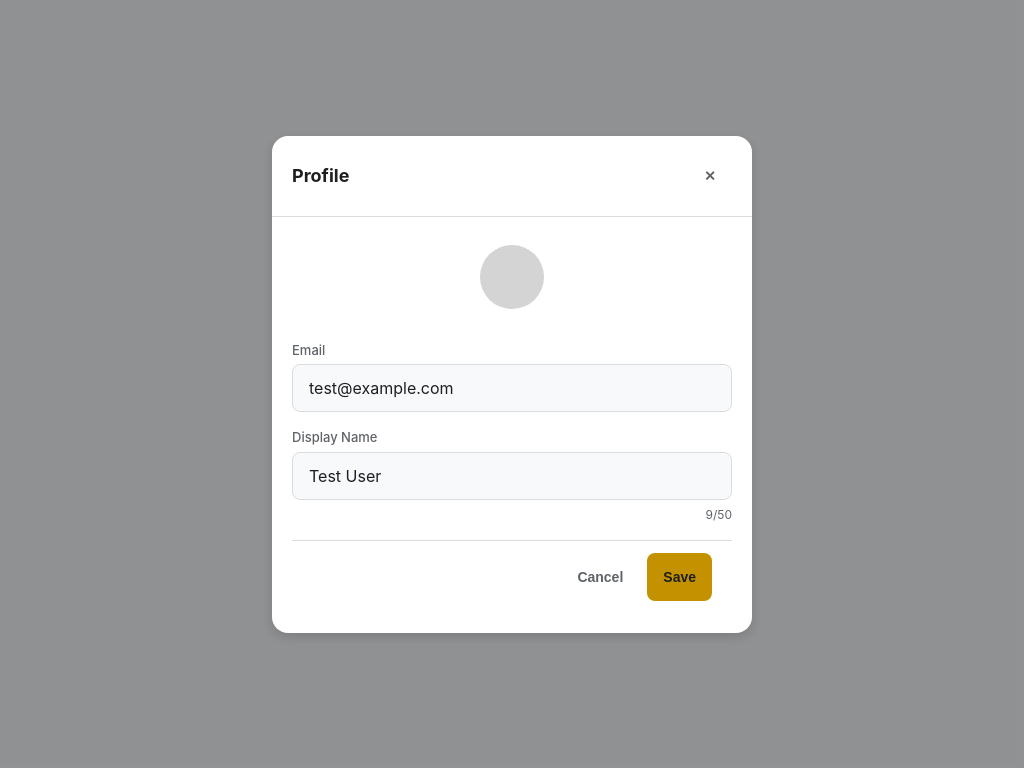
Test case: ProfileDialog — Character counter (Issue #65) › AC2: Counter updates on input (uses cleaned length) › updates count when user types
Replace the text in the field labelled "Display Name" with "Hello World" at point(512, 476), box [292, 452, 732, 500]
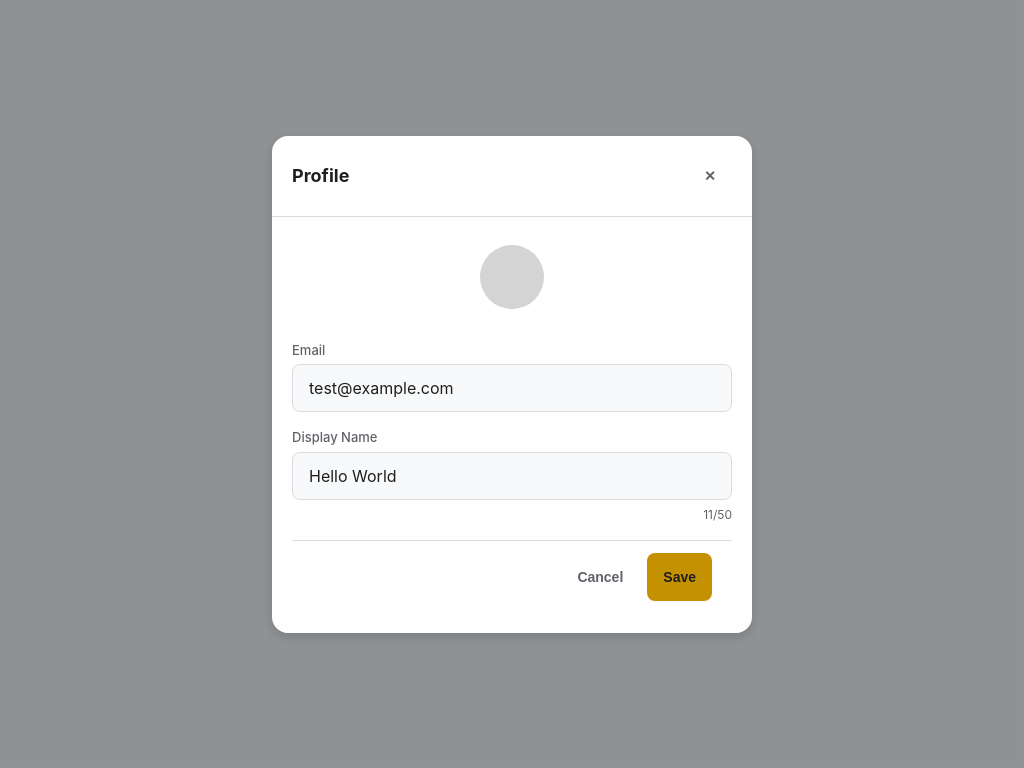
Expected: the text "11/50" is shown, [703, 506, 732, 524]
